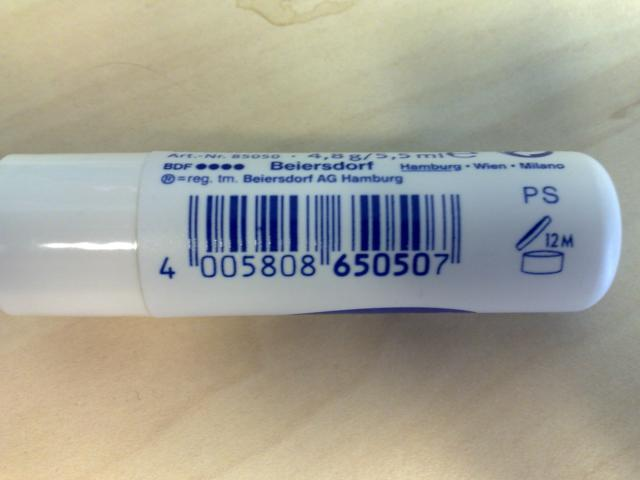Barkod: (186, 194, 468, 248)
